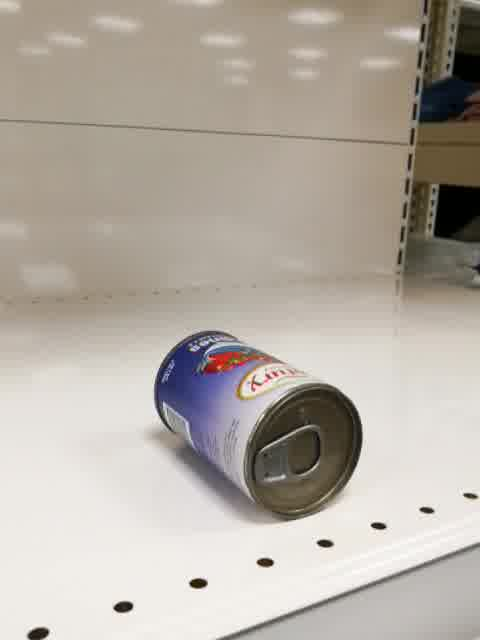sardine: (153, 330, 363, 522)
